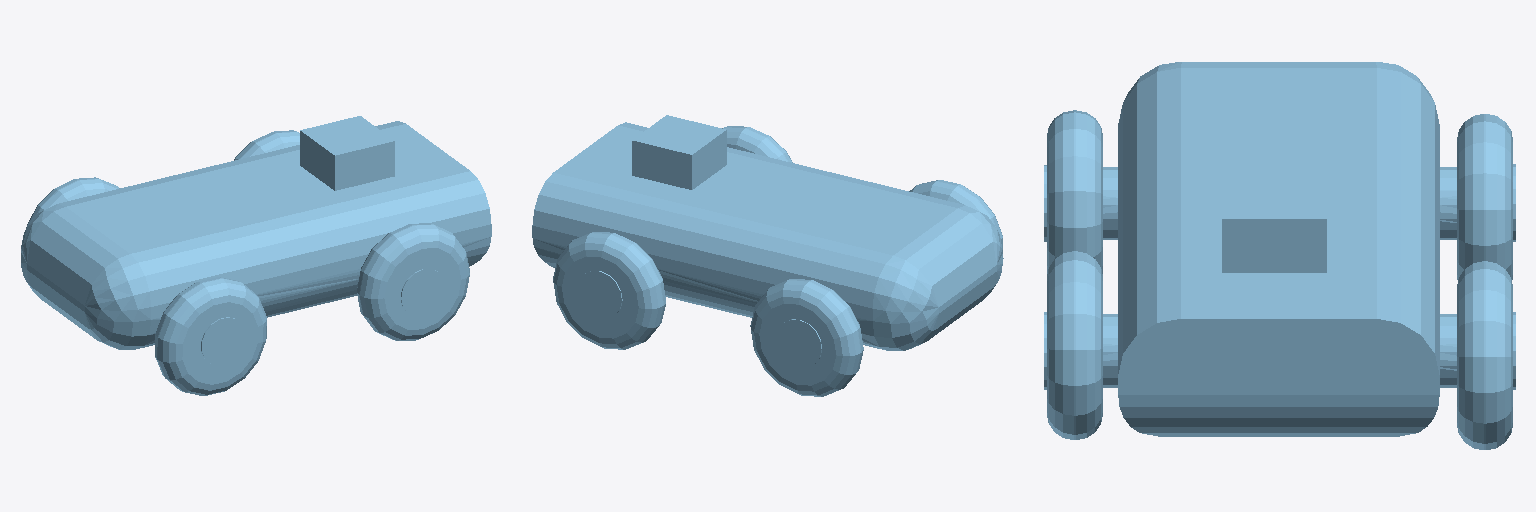
The robot description file, URDF, robot "rover":
<?xml version="1.0" ?>
<!-- =================================================================================== -->
<!-- |    This document was autogenerated by xacro from src/rover_description/urdf/rover.urdf.xacro | -->
<!-- |    EDITING THIS FILE BY HAND IS NOT RECOMMENDED                                 | -->
<!-- =================================================================================== -->
<robot name="rover">
  <material name="body_color">
    <color rgba="0.615686 0.811765 0.929412 1"/>
  </material>
  <!-- body -->
  <link name="base_link"/>
  <link name="main_body">
    <inertial>
      <origin rpy="0 0 0" xyz="-0.077841 0.00218182 -0.0645442"/>
      <mass value="0.00344468"/>
      <inertia ixx="8.31262e-06" ixy="1.21351e-08" ixz="-4.30308e-07" iyy="2.83262e-05" iyz="7.87963e-09" izz="3.34903e-05"/>
    </inertial>
    <visual>
      <origin rpy="0 0 0" xyz="8.67362e-19 0.00232656 -0.028"/>
      <geometry>
        <mesh filename="package://rover_description/meshes/59.stl" scale="1 1 1"/>
      </geometry>
      <material name="body_color"/>
    </visual>
    <collision>
      <origin rpy="0 0 0" xyz="8.67362e-19 0.00232656 -0.028"/>
      <geometry>
        <mesh filename="package://rover_description/meshes/59.stl" scale="1 1 1"/>
      </geometry>
    </collision>
  </link>
  <joint name="base_to_body" type="fixed">
    <origin rpy="0 0 0" xyz="0 0 0"/>
    <parent link="base_link"/>
    <child link="main_body"/>
  </joint>
  <link name="wheel_2">
    <inertial>
      <origin rpy="0 0 0" xyz="0.0143801 0 -0.00317342"/>
      <mass value="0.000126179"/>
      <inertia ixx="1.35094e-07" ixy="0" ixz="4.8002e-11" iyy="7.41754e-08" iyz="0" izz="7.43953e-08"/>
    </inertial>
    <visual>
      <origin rpy="0 0 0" xyz="0.001 0 0"/>
      <geometry>
        <mesh filename="package://rover_description/meshes/63.stl" scale="1 1 1"/>
      </geometry>
      <material name="body_color"/>
    </visual>
    <collision>
      <origin rpy="0 0 0" xyz="0.001 0 0"/>
      <geometry>
        <mesh filename="package://rover_description/meshes/63.stl" scale="1 1 1"/>
      </geometry>
    </collision>
  </link>
  <joint name="wheel_2_joint" type="continuous">
    <origin rpy="0.998696 0 1.5708" xyz="-0.165821 -0.109219 -0.0805"/>
    <axis xyz="-1 0 0"/>
    <parent link="main_body"/>
    <child link="wheel_2"/>
  </joint>
  <gazebo reference="wheel_2">
    <mu1>1.0</mu1>
    <mu2>1.0</mu2>
    <kp>100000.0</kp>
    <kd>1.0</kd>
  </gazebo>
  <link name="wheel_1">
    <inertial>
      <origin rpy="0 0 0" xyz="0.0143801 0 -0.00317342"/>
      <mass value="0.000126179"/>
      <inertia ixx="1.35094e-07" ixy="0" ixz="4.8002e-11" iyy="7.41754e-08" iyz="0" izz="7.43953e-08"/>
    </inertial>
    <visual>
      <origin rpy="0 0 0" xyz="0.001 0 0"/>
      <geometry>
        <mesh filename="package://rover_description/meshes/63.stl" scale="1 1 1"/>
      </geometry>
      <material name="body_color"/>
    </visual>
    <collision>
      <origin rpy="0 0 0" xyz="0.001 0 0"/>
      <geometry>
        <mesh filename="package://rover_description/meshes/63.stl" scale="1 1 1"/>
      </geometry>
    </collision>
  </link>
  <joint name="wheel_1_joint" type="continuous">
    <origin rpy="-3.13848 0 1.5708" xyz="-5.55112e-17 -0.109219 -0.0805"/>
    <axis xyz="-1 0 0"/>
    <parent link="main_body"/>
    <child link="wheel_1"/>
  </joint>
  <gazebo reference="wheel_1">
    <mu1>1.0</mu1>
    <mu2>1.0</mu2>
    <kp>100000.0</kp>
    <kd>1.0</kd>
  </gazebo>
  <link name="wheel">
    <inertial>
      <origin rpy="0 0 0" xyz="0.0133801 0 -0.00317342"/>
      <mass value="0.000126179"/>
      <inertia ixx="1.35094e-07" ixy="0" ixz="4.8002e-11" iyy="7.41754e-08" iyz="0" izz="7.43953e-08"/>
    </inertial>
    <visual>
      <origin rpy="0 0 0" xyz="0 0 0"/>
      <geometry>
        <mesh filename="package://rover_description/meshes/63.stl" scale="1 1 1"/>
      </geometry>
      <material name="body_color"/>
    </visual>
    <collision>
      <origin rpy="0 0 0" xyz="0 0 0"/>
      <geometry>
        <mesh filename="package://rover_description/meshes/63.stl" scale="1 1 1"/>
      </geometry>
    </collision>
  </link>
  <joint name="wheel_joint" type="continuous">
    <origin rpy="0.0299318 0 -1.5708" xyz="-5.55112e-17 0.113673 -0.0805"/>
    <axis xyz="1 0 0"/>
    <parent link="main_body"/>
    <child link="wheel"/>
  </joint>
  <gazebo reference="wheel">
    <mu1>1.0</mu1>
    <mu2>1.0</mu2>
    <kp>100000.0</kp>
    <kd>1.0</kd>
  </gazebo>
  <link name="wheel_3">
    <inertial>
      <origin rpy="0 0 0" xyz="0.0133801 0 -0.00317342"/>
      <mass value="0.000126179"/>
      <inertia ixx="1.35094e-07" ixy="0" ixz="4.8002e-11" iyy="7.41754e-08" iyz="0" izz="7.43953e-08"/>
    </inertial>
    <visual>
      <origin rpy="0 0 0" xyz="0 0 0"/>
      <geometry>
        <mesh filename="package://rover_description/meshes/63.stl" scale="1 1 1"/>
      </geometry>
      <material name="body_color"/>
    </visual>
    <collision>
      <origin rpy="0 0 0" xyz="0 0 0"/>
      <geometry>
        <mesh filename="package://rover_description/meshes/63.stl" scale="1 1 1"/>
      </geometry>
    </collision>
  </link>
  <joint name="wheel_3_joint" type="continuous">
    <origin rpy="0.81533 0 -1.5708" xyz="-0.165821 0.113673 -0.0805"/>
    <axis xyz="1 0 0"/>
    <parent link="main_body"/>
    <child link="wheel_3"/>
  </joint>
  <gazebo reference="wheel_3">
    <mu1>1.0</mu1>
    <mu2>1.0</mu2>
    <kp>100000.0</kp>
    <kd>1.0</kd>
  </gazebo>
</robot>

--- What the picture shows (computed from the rendered views, not written in the file) ---
Views: 3 orthographic renders of the robot side by side, from view 1: azimuth 30°, elevation 25°; view 2: azimuth 150°, elevation 25°; view 3: azimuth 270°, elevation 25°.
Robot: rover — 6 links, 5 joints (4 continuous, 1 fixed); root link base_link; default pose: every joint at zero.
Visible links, largest first — view 1: main_body, wheel_2, wheel_1, wheel_3, wheel; view 2: main_body, wheel_3, wheel, wheel_2, wheel_1; view 3: main_body, wheel, wheel_1, wheel_3, wheel_2.
Link boxes in pixels (x1,y1,x2,y2): main_body: (21,116,491,349); wheel_2: (155,277,266,395); wheel_1: (357,223,469,340); wheel_3: (27,177,119,225); wheel: (234,130,299,160); main_body: (532,115,1002,350); wheel_3: (750,279,863,396); wheel: (553,232,665,349); wheel_2: (909,180,1003,258); wheel_1: (722,126,792,162); main_body: (1103,62,1456,436); wheel: (1457,261,1515,449); wheel_1: (1044,251,1102,439); wheel_3: (1457,114,1515,279); wheel_2: (1044,110,1102,273).
Size in the robot's own frame: 0.3174 by 0.2239 by 0.1281 metres.
Meshes: 2 distinct files referenced, 5 mesh visuals loaded (2 ASCII STL).
